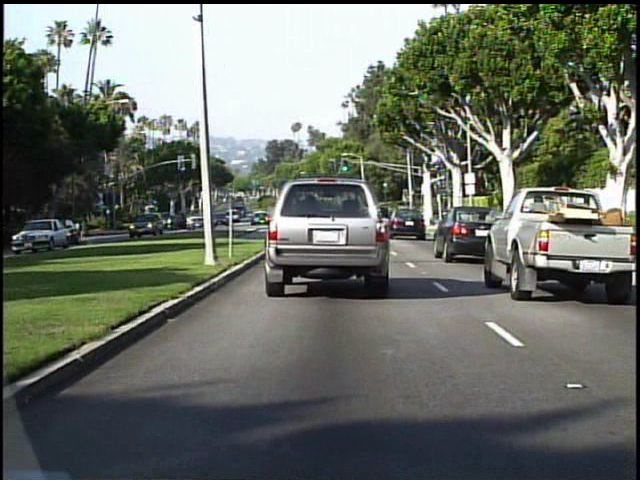person: (71, 215, 85, 238)
